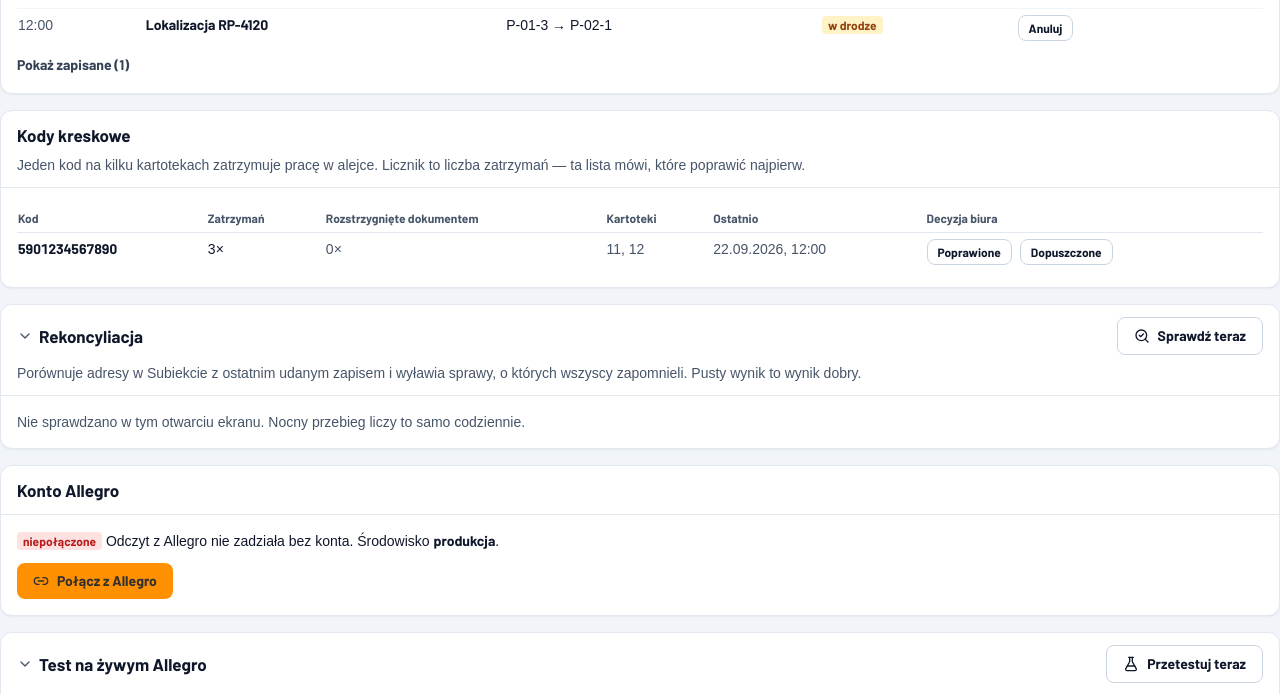
Test case: Stan systemu w panelu › rekoncyliacja biegnie na żądanie i nazywa rodzaj słowem, nie kluczem
(page scrolled)
Click the button "Sprawdź teraz" at (1190, 336), box [1117,317,1263,355]
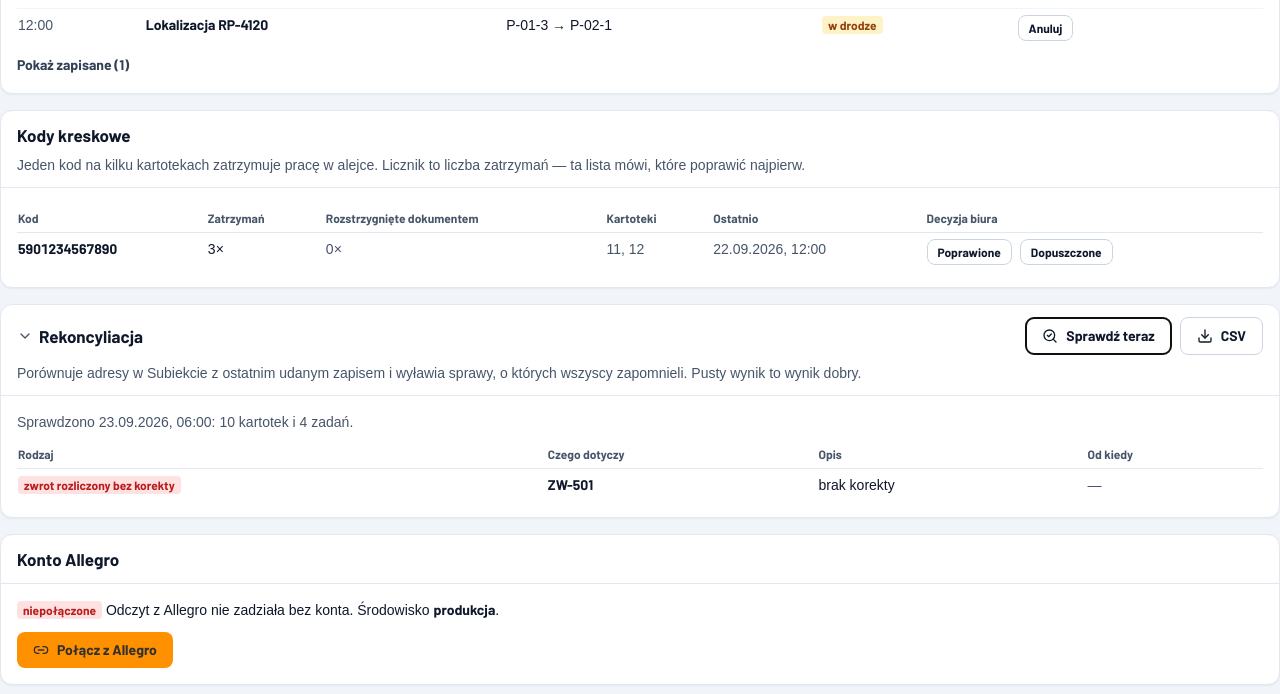
Check: the text "zwrot rozliczony bez korekty" is shown, box [18,476,181,494]
